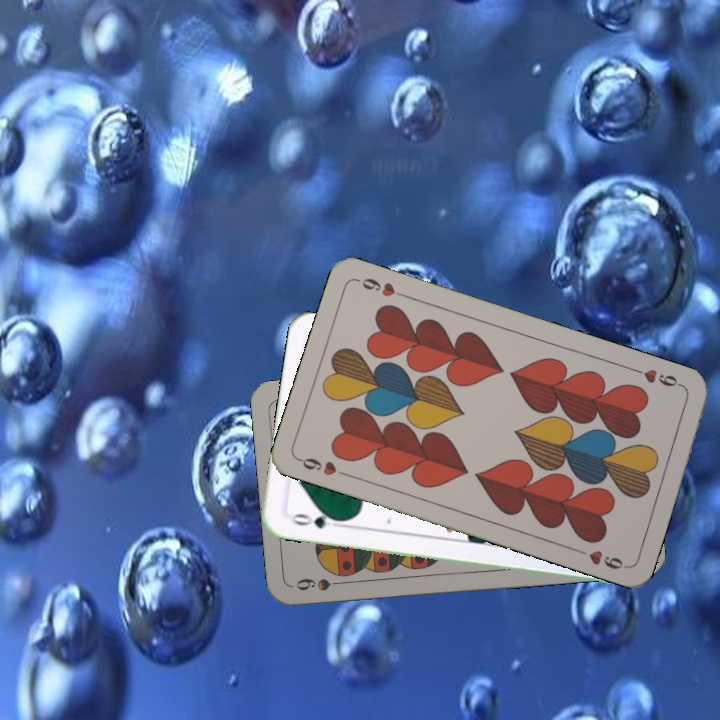GO: (286, 508, 345, 532)
H9: (294, 453, 352, 479), (629, 364, 687, 390)
S9: (292, 574, 350, 594)
